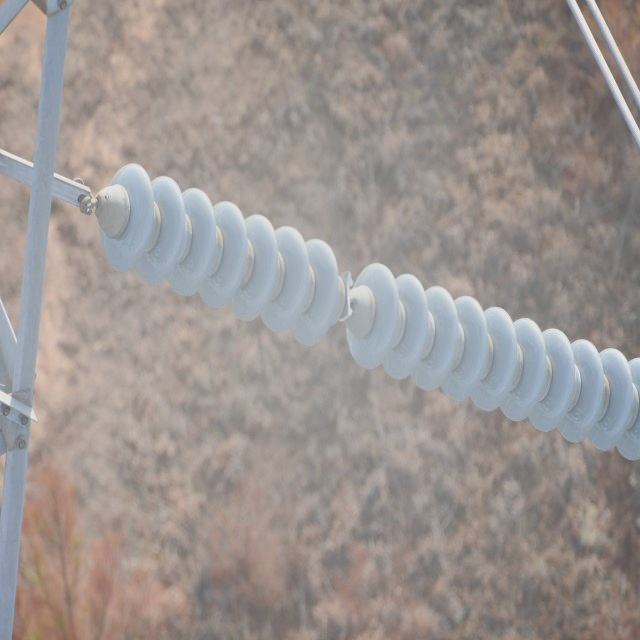broken: (341, 268, 356, 327)
insulator: (100, 162, 640, 466)
